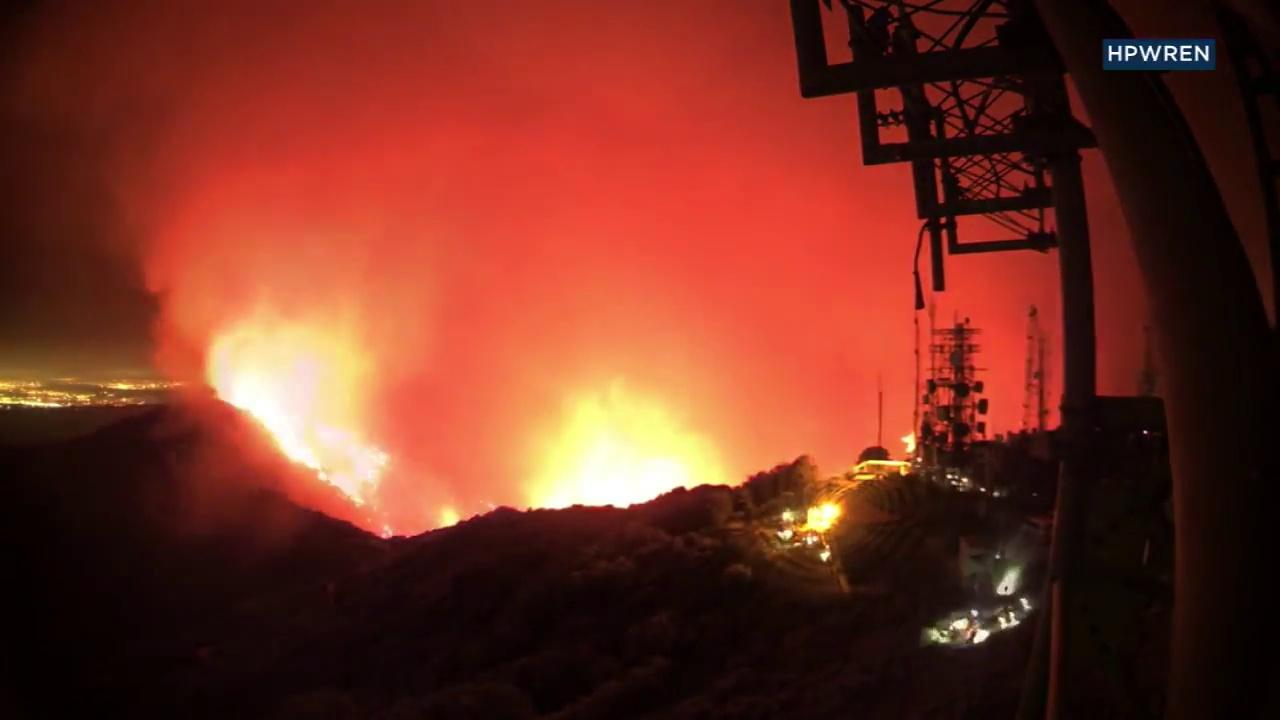fire: (210, 320, 404, 500), (510, 375, 723, 504)
smoke: (139, 9, 903, 322)
